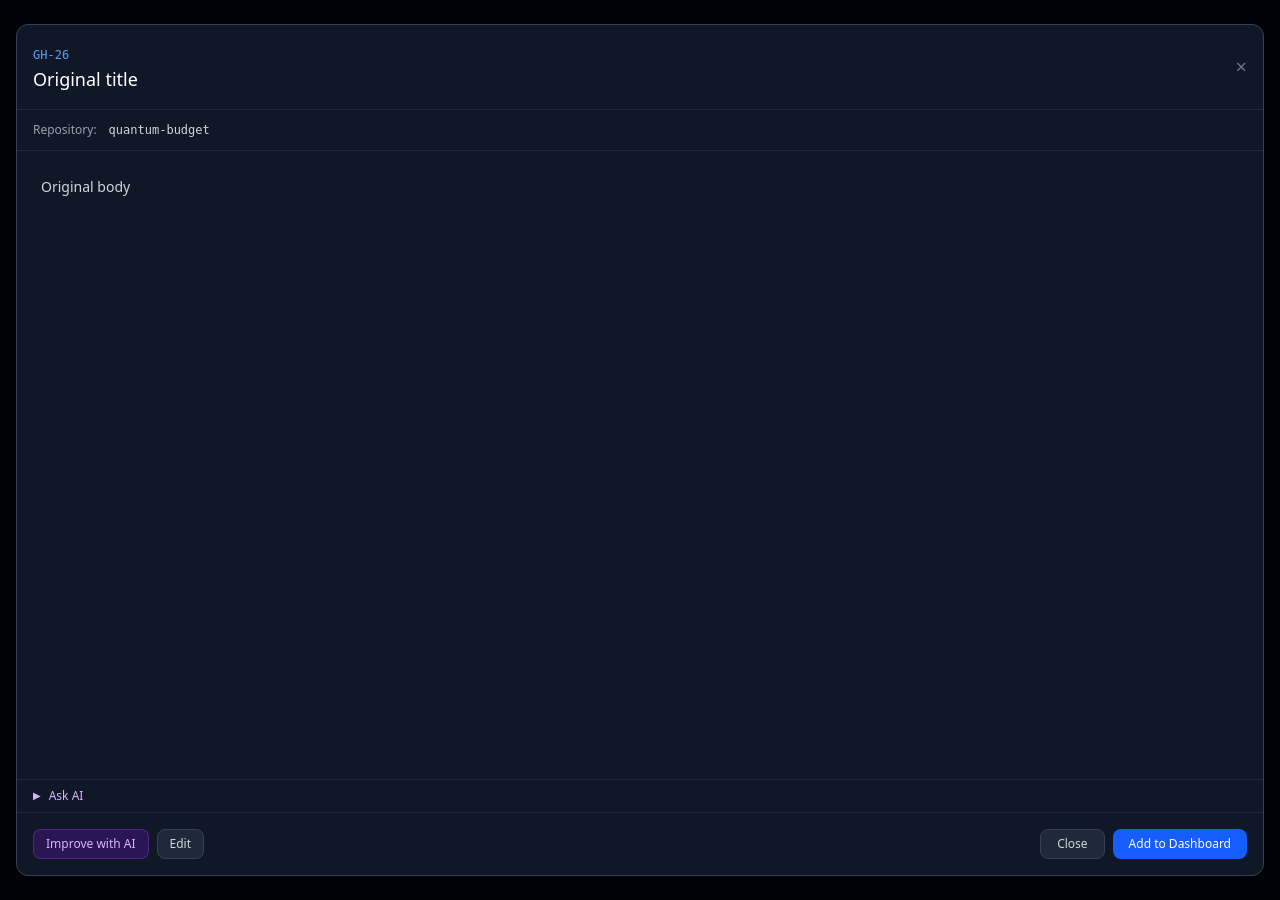
Scenario: TicketDetailModal — Add to Dashboard save-first › swaps Improve-with-AI for Back in edit mode and Back returns to read-only
Expected: the button "Add to Dashboard" is enabled, [1113,829,1247,859]
Expected: the button "Improve with AI" is shown, [33,829,148,859]
Click the button "Edit". click: (180,844)
box: [156,829,204,859]
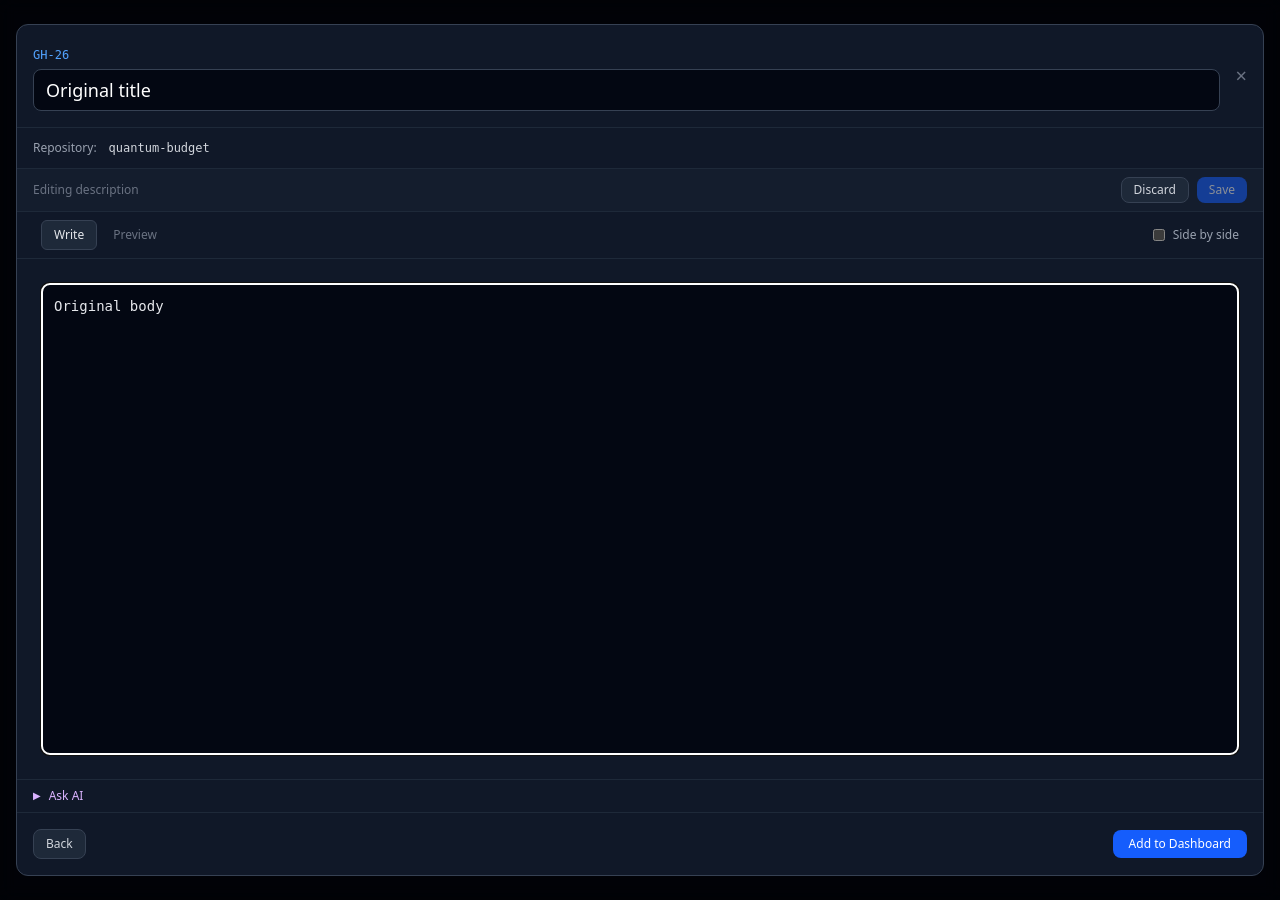
Expected: the button "Back" is shown
Expected: the button "Improve with AI" is gone
Click the button "Back". click: (59,844)
box: [33,829,86,859]
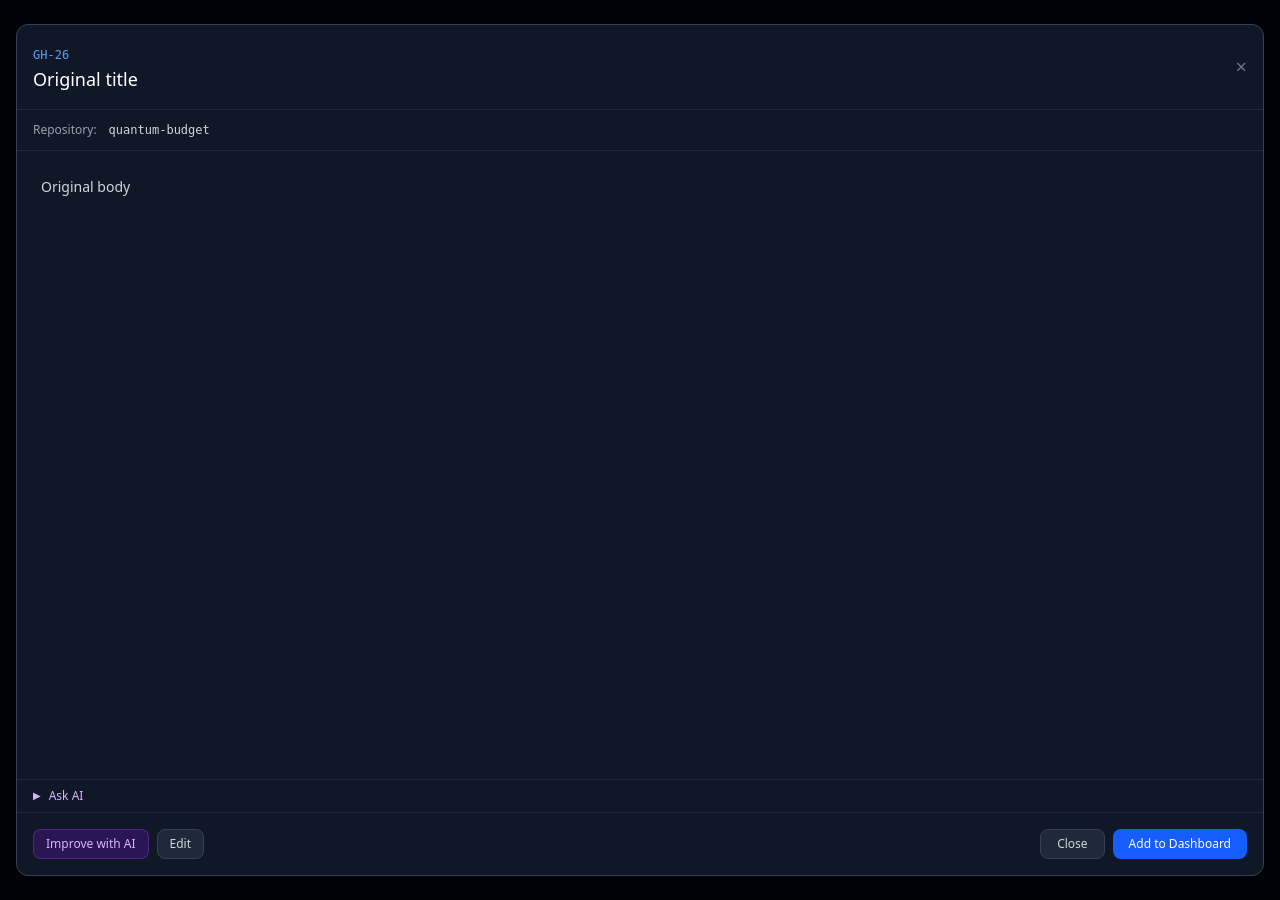
Expected: the button "Edit" is shown, [156,829,204,859]
Expected: the text box is gone
Expected: the button "Improve with AI" is shown, [33,829,148,859]
